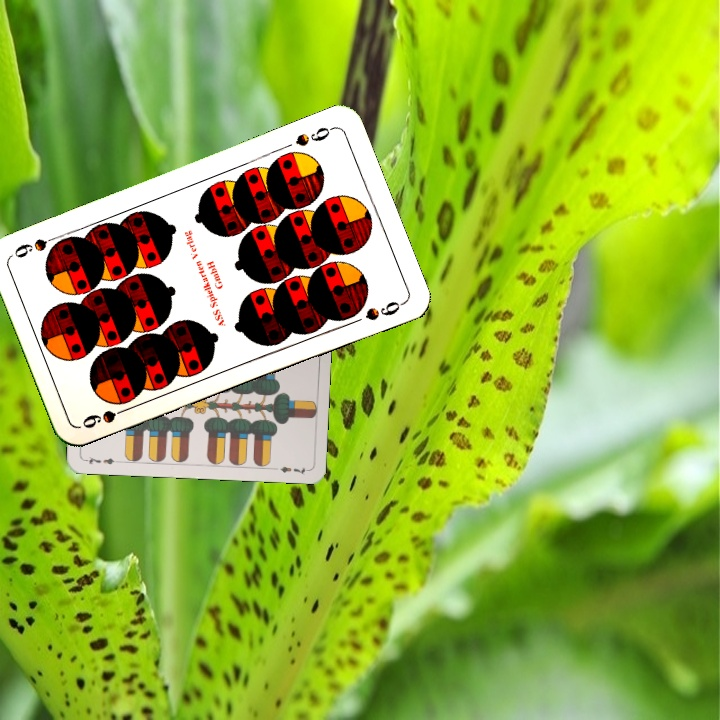E7: (81, 452, 121, 467)
S9: (78, 402, 135, 432), (291, 122, 337, 149)
